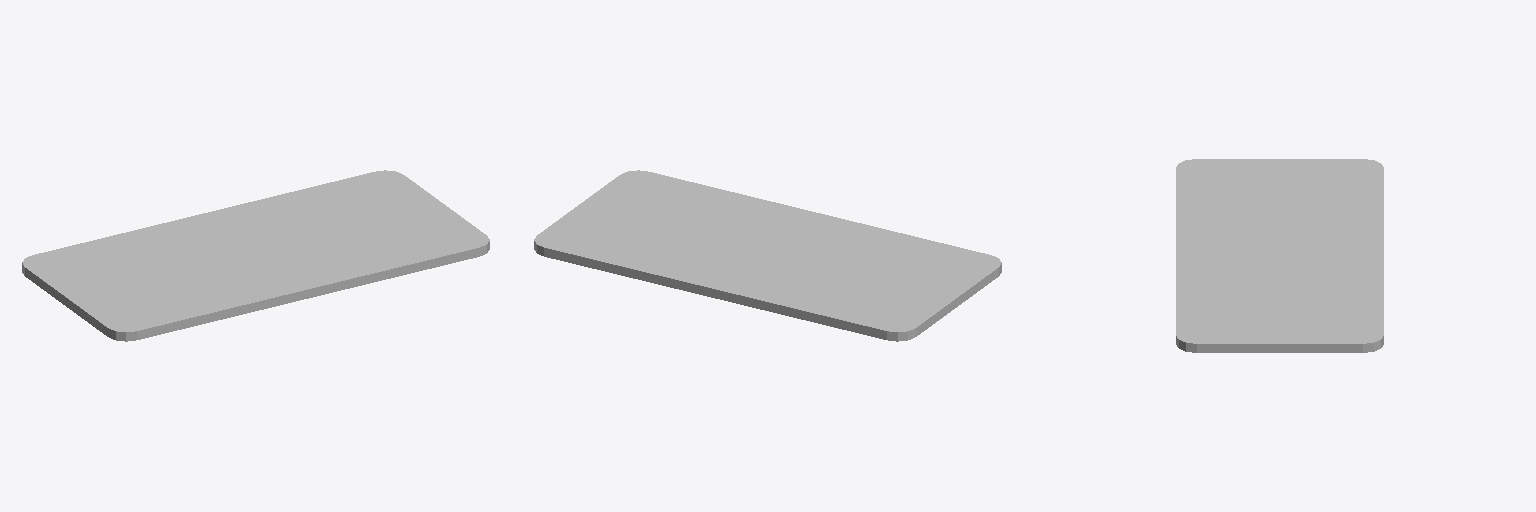
File: desk_top_2.obj
3 views of the same model, side by side, from view 1: azimuth 30°, elevation 25°; view 2: azimuth 150°, elevation 25°; view 3: azimuth 270°, elevation 25° (orthographic).
Bounding box in the file's own units: 17.16 × 0.3949 × 8.15.